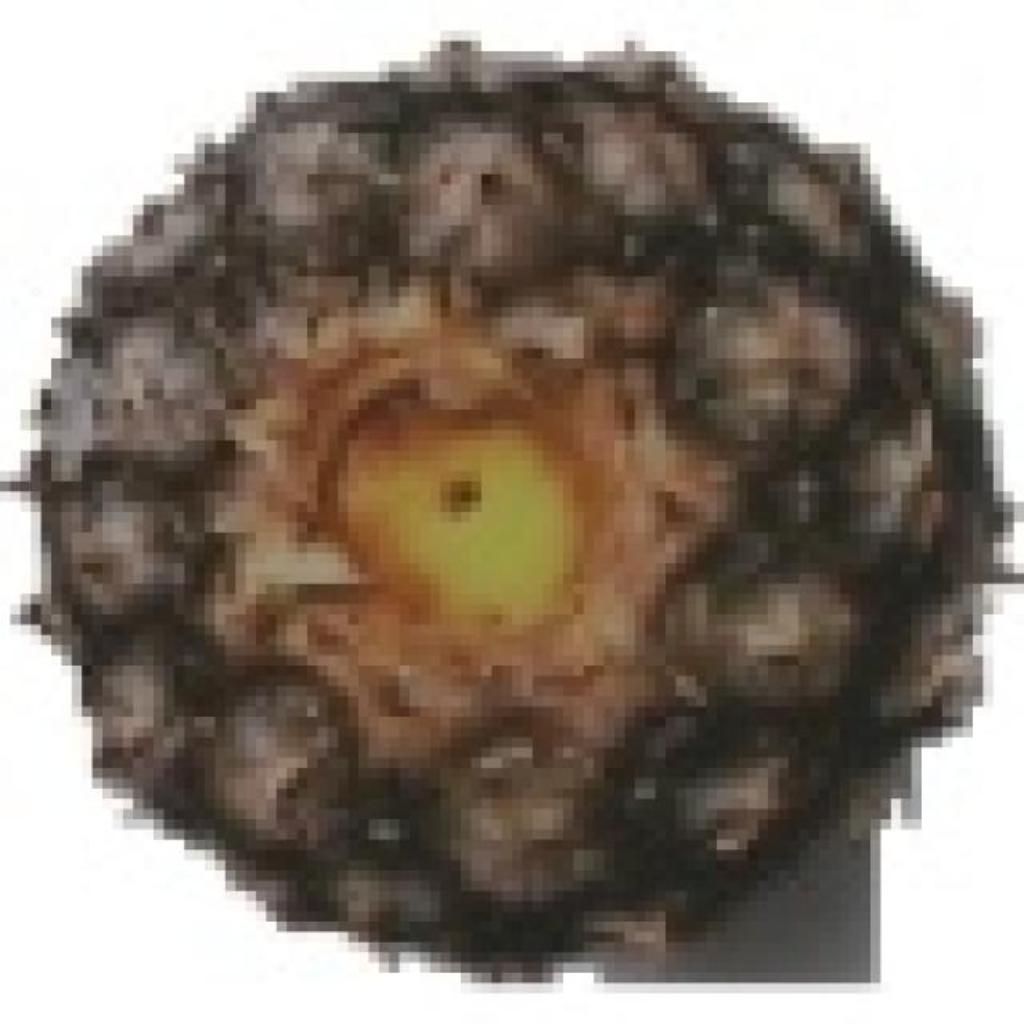pineapple: (20, 31, 983, 963)
